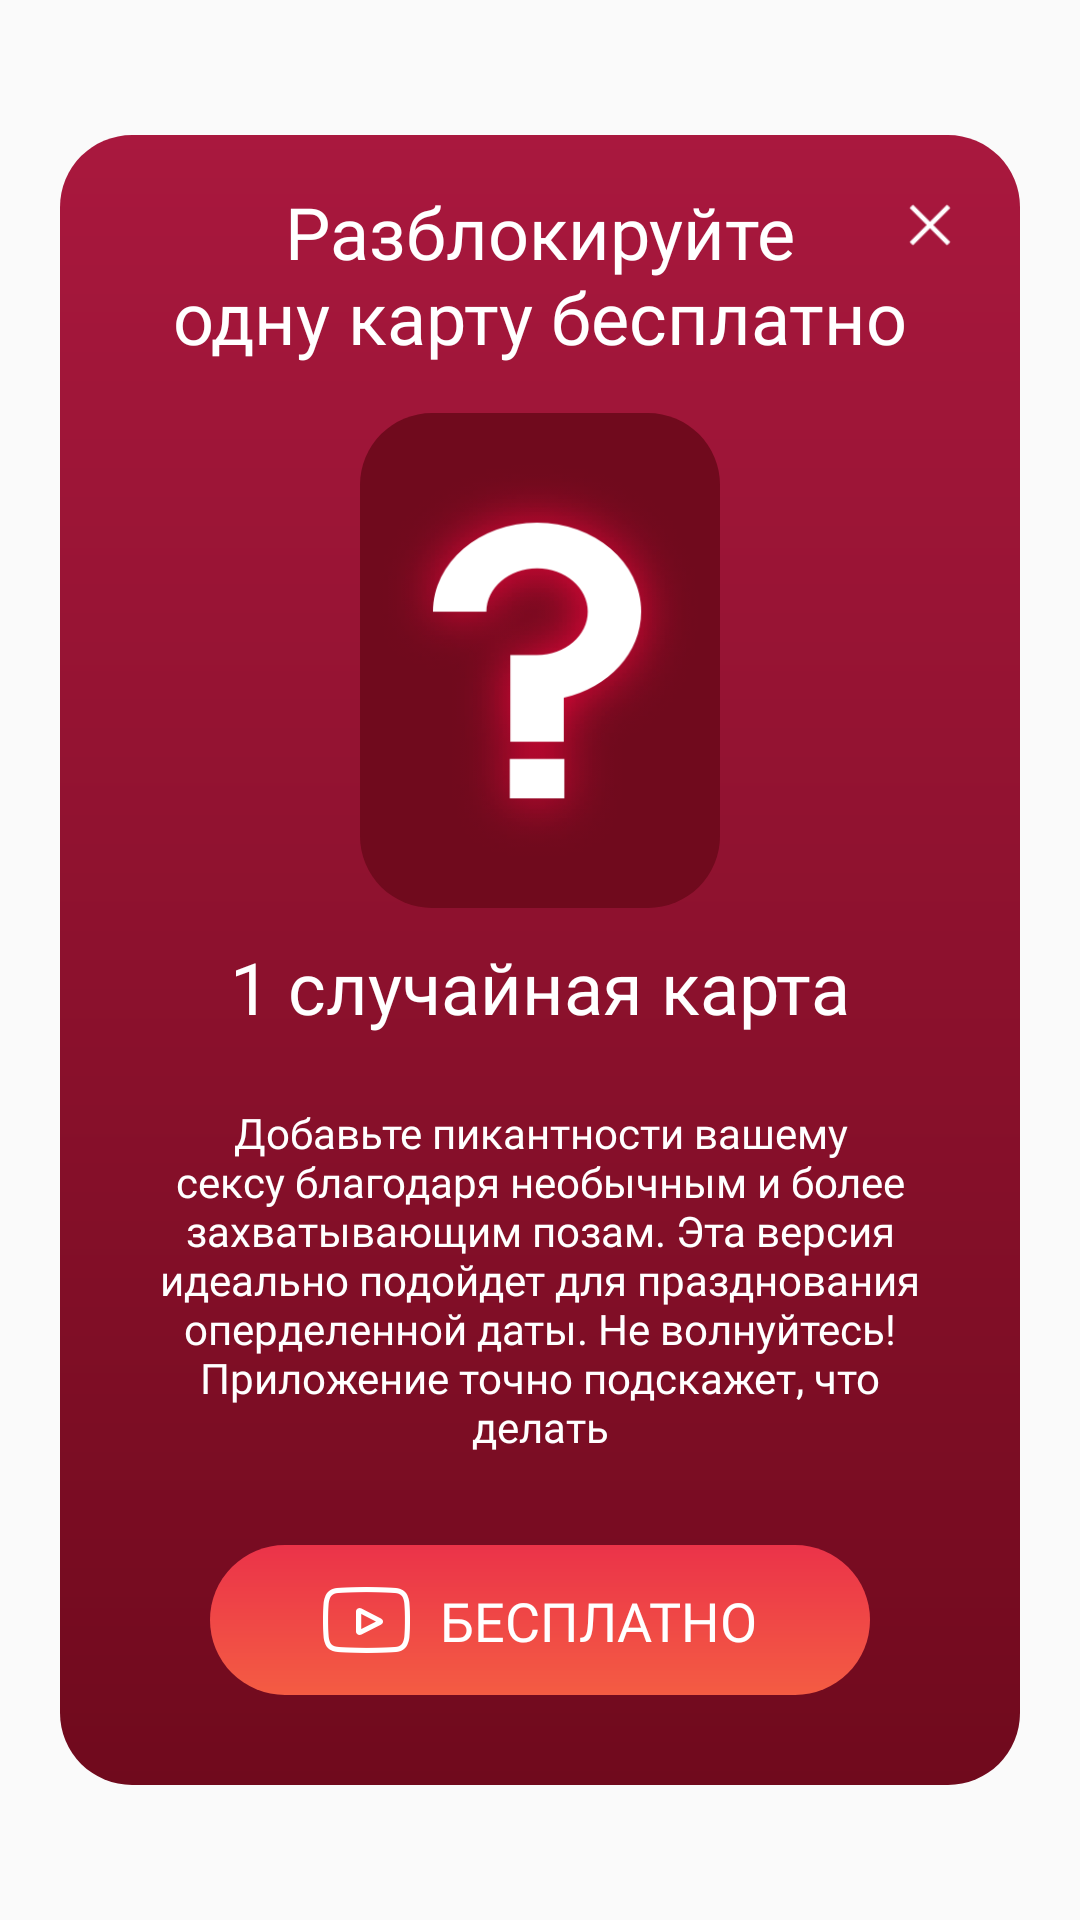

Icons on this 1080w x 1920h Android screen, each with its box as {"x1": x1, "y1": y1, "x2": x2, "y2": y2}:
close: {"x1": 909, "y1": 204, "x2": 951, "y2": 246}
